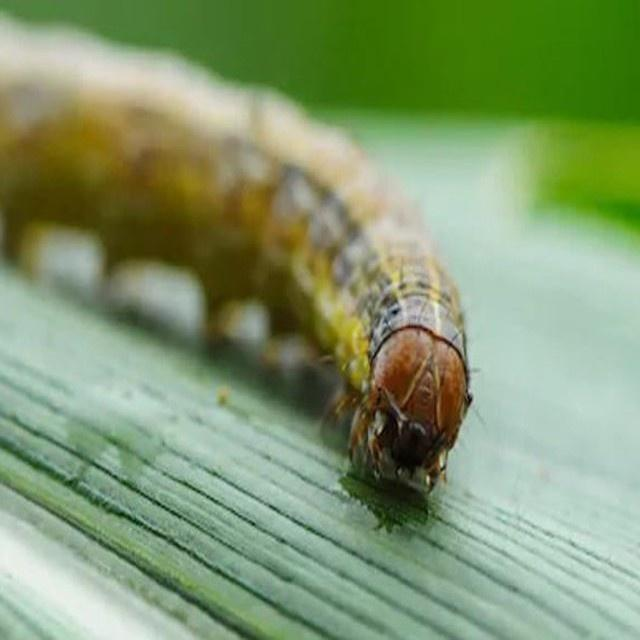gusano_cogollero: (0, 16, 478, 502)
